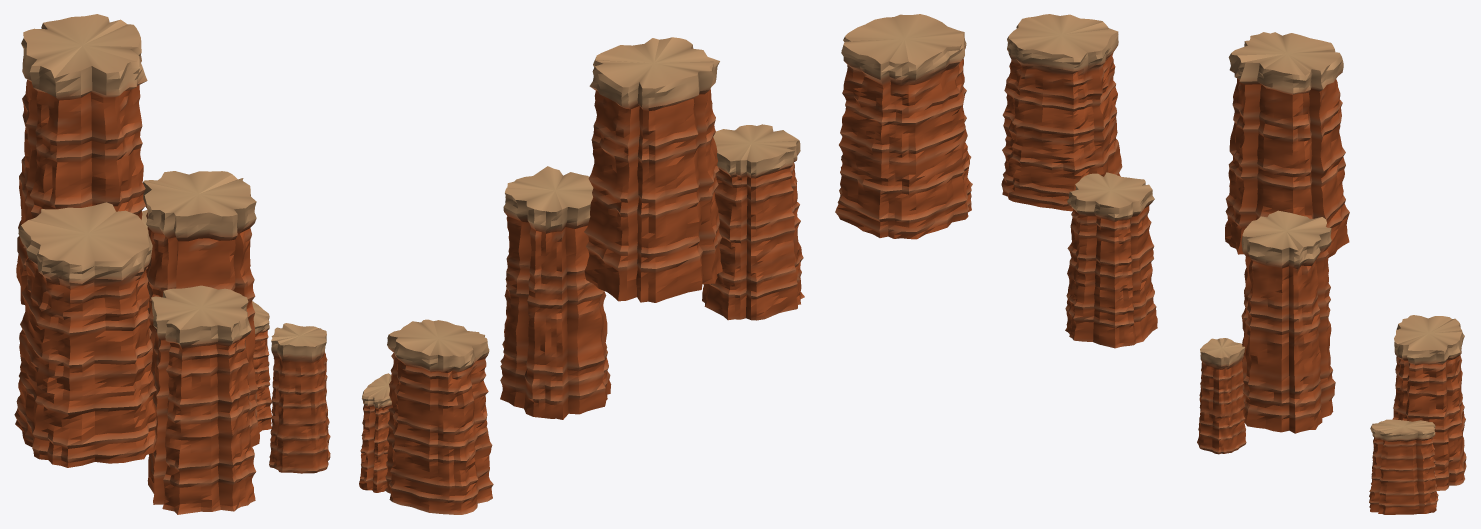
The model's file is terrain-080.glb.
The picture shows the model from 3 angles, left to right: view 1: azimuth 30°, elevation 25°; view 2: azimuth 150°, elevation 25°; view 3: azimuth 270°, elevation 25°; orthographic projection. The views are drawn at different scales.
Parts seen in each view (by area): view 1: terrain-080; view 2: terrain-080; view 3: terrain-080.
Boxes of the visible parts, x1=… form: terrain-080: x1=14, y1=14, x2=330, y2=514; terrain-080: x1=359, y1=14, x2=972, y2=514; terrain-080: x1=1001, y1=14, x2=1466, y2=514.
Bounding box in the file's own units: 127 × 129 × 146.
